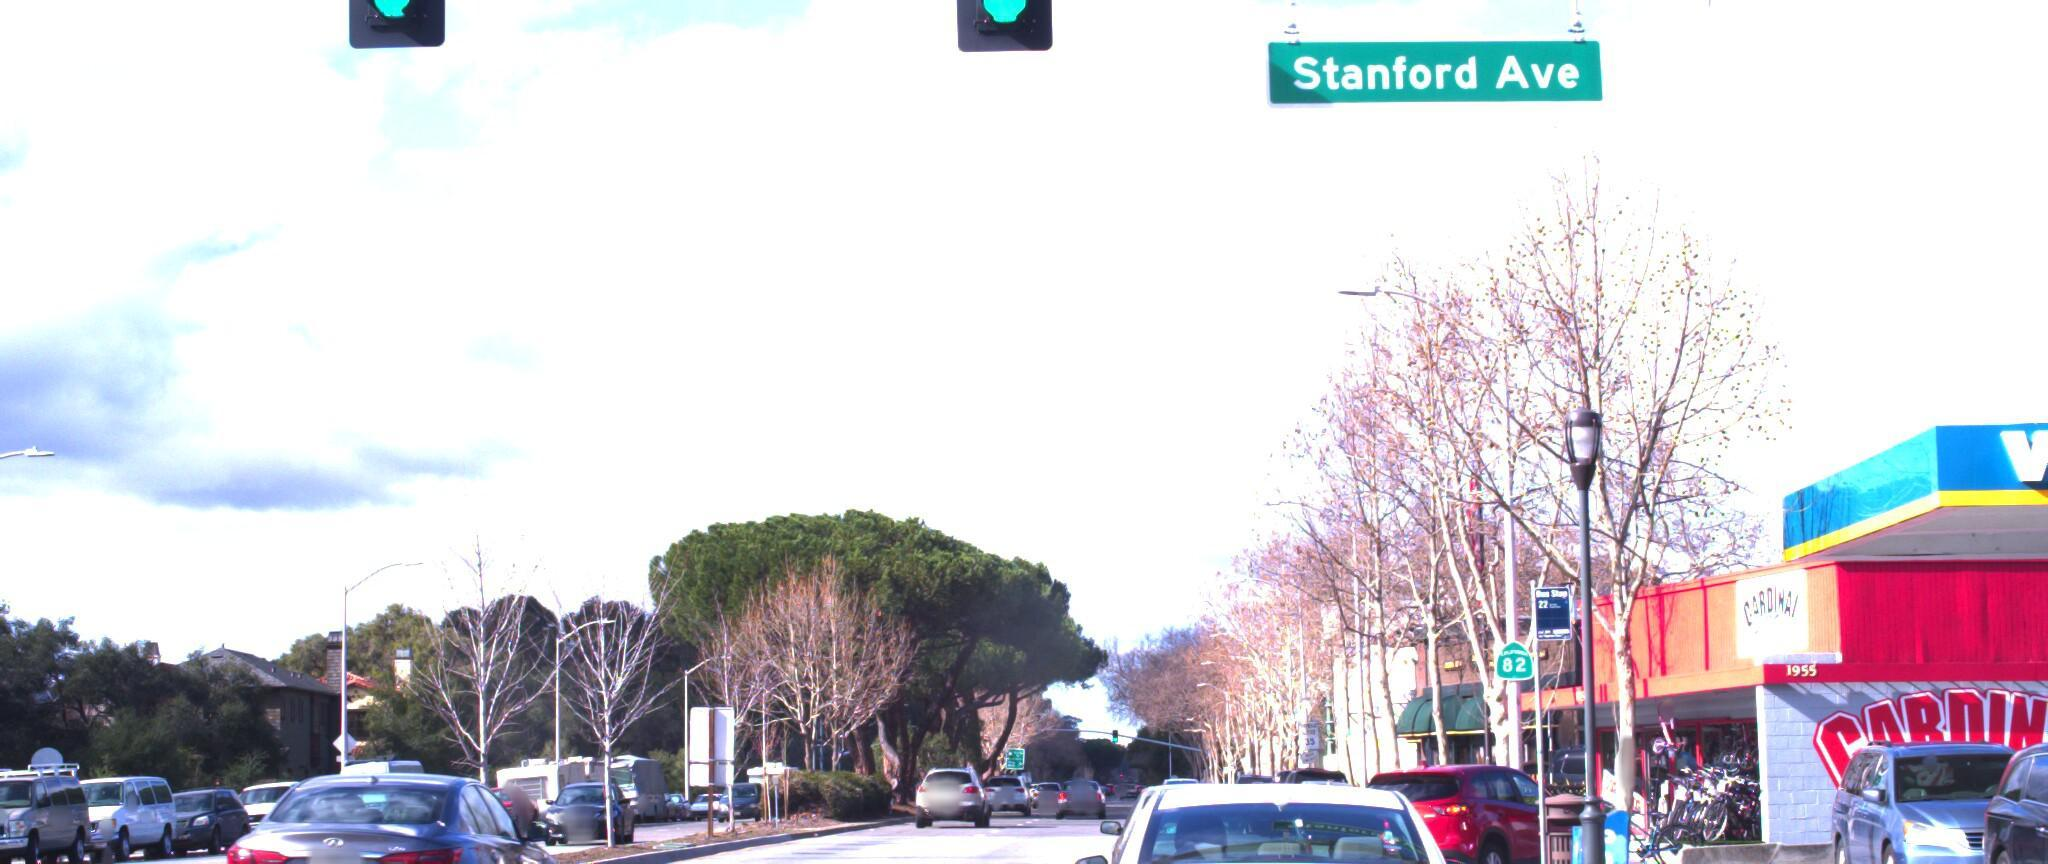bicycle: (1597, 777, 1688, 864), (1671, 747, 1761, 833)
car: (1057, 733, 1492, 864), (202, 745, 580, 864), (1802, 722, 2048, 864), (40, 748, 202, 852), (1955, 714, 2048, 864), (0, 741, 108, 850), (152, 769, 276, 841)
